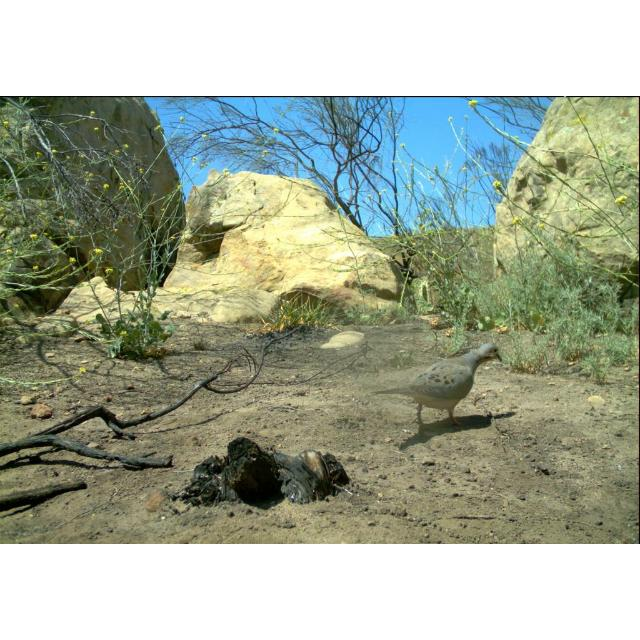animals: (374, 344, 506, 438)
